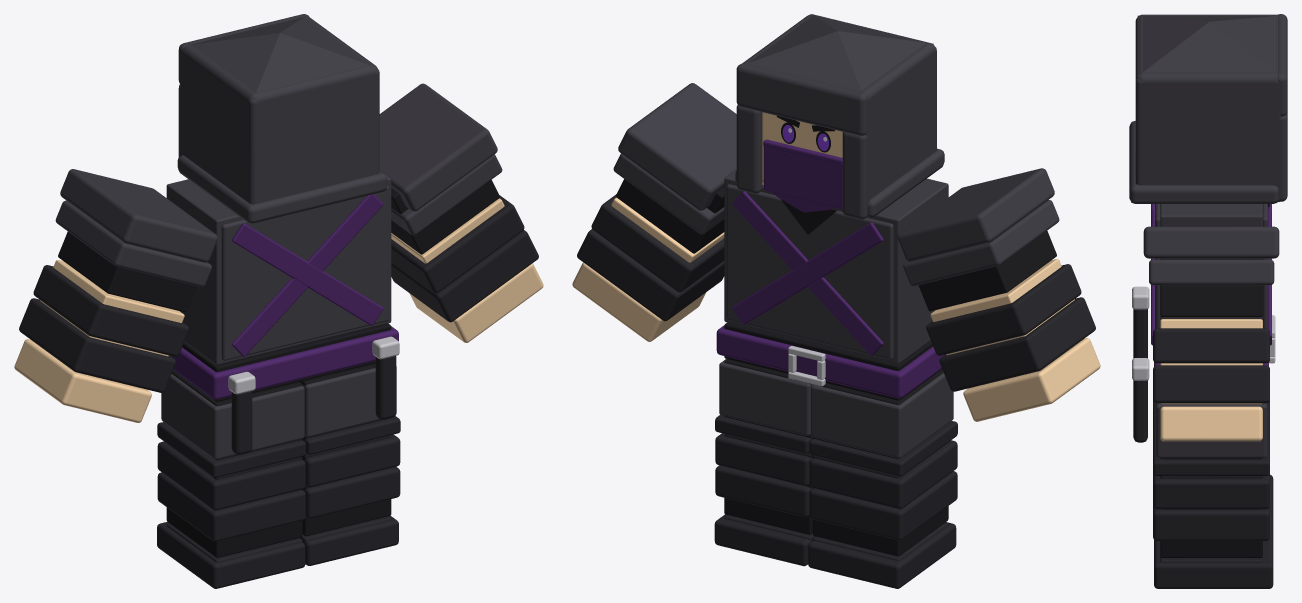
File: assassin_male.glb
3 views of the same model, side by side, from view 1: azimuth 30°, elevation 25°; view 2: azimuth 150°, elevation 25°; view 3: azimuth 270°, elevation 25° (orthographic).
Parts seen in each view (by area): view 1: Hood, UpperTorso, LeftUpperArm, RightUpperArm, LeftLowerArm, LeftLowerLeg, RightLowerArm, LeftUpperLeg, RightLowerLeg, LowerTorso, RightUpperLeg, LeftHand (+4 smaller); view 2: UpperTorso, Hood, LeftUpperArm, RightUpperArm, LeftLowerArm, LeftLowerLeg, LeftUpperLeg, RightLowerArm, LowerTorso, RightLowerLeg, RightUpperLeg, LeftHand (+5 smaller); view 3: Hood, RightUpperArm, RightLowerArm, RightLowerLeg, RightUpperLeg, RightFoot, UpperTorso, RightHand, Sheaths, LowerTorso.
Boxes of the visible parts, x1,y1,x2,y2 form: Hood: [177, 14, 387, 223]; UpperTorso: [166, 174, 391, 364]; LeftUpperArm: [55, 169, 217, 312]; RightUpperArm: [379, 83, 502, 254]; LeftLowerArm: [19, 260, 188, 392]; LeftLowerLeg: [157, 441, 305, 557]; RightLowerArm: [391, 195, 538, 322]; LeftUpperLeg: [157, 370, 305, 477]; RightLowerLeg: [302, 434, 400, 536]; LowerTorso: [170, 323, 398, 401]; RightUpperLeg: [300, 363, 400, 454]; LeftHand: [14, 339, 151, 422]; UpperTorso: [724, 169, 948, 363]; Hood: [735, 14, 944, 219]; LeftUpperArm: [897, 168, 1059, 311]; RightUpperArm: [613, 83, 736, 253]; LeftLowerArm: [926, 259, 1095, 391]; LeftLowerLeg: [809, 440, 957, 556]; LeftUpperLeg: [809, 369, 957, 476]; RightLowerArm: [577, 194, 724, 321]; LowerTorso: [716, 322, 944, 400]; RightLowerLeg: [715, 433, 813, 534]; RightUpperLeg: [715, 359, 812, 453]; LeftHand: [963, 338, 1100, 421]; Hood: [1129, 14, 1287, 203]; RightUpperArm: [1143, 226, 1279, 316]; RightLowerArm: [1153, 319, 1269, 404]; RightLowerLeg: [1153, 473, 1269, 557]; RightUpperLeg: [1153, 403, 1269, 475]; RightFoot: [1154, 521, 1273, 588]; UpperTorso: [1151, 204, 1271, 345]; RightHand: [1160, 406, 1262, 441]; Sheaths: [1132, 286, 1149, 442]; LowerTorso: [1154, 315, 1275, 366].
Size of the model in its own units: 5.49 by 5.61 by 1.54.
